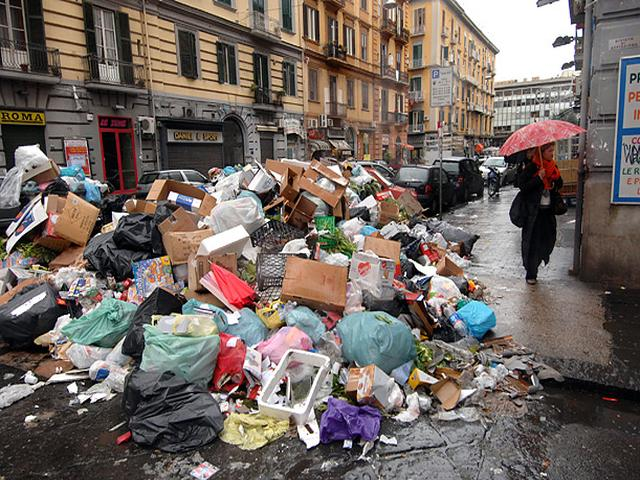garbage: (16, 184, 407, 415)
